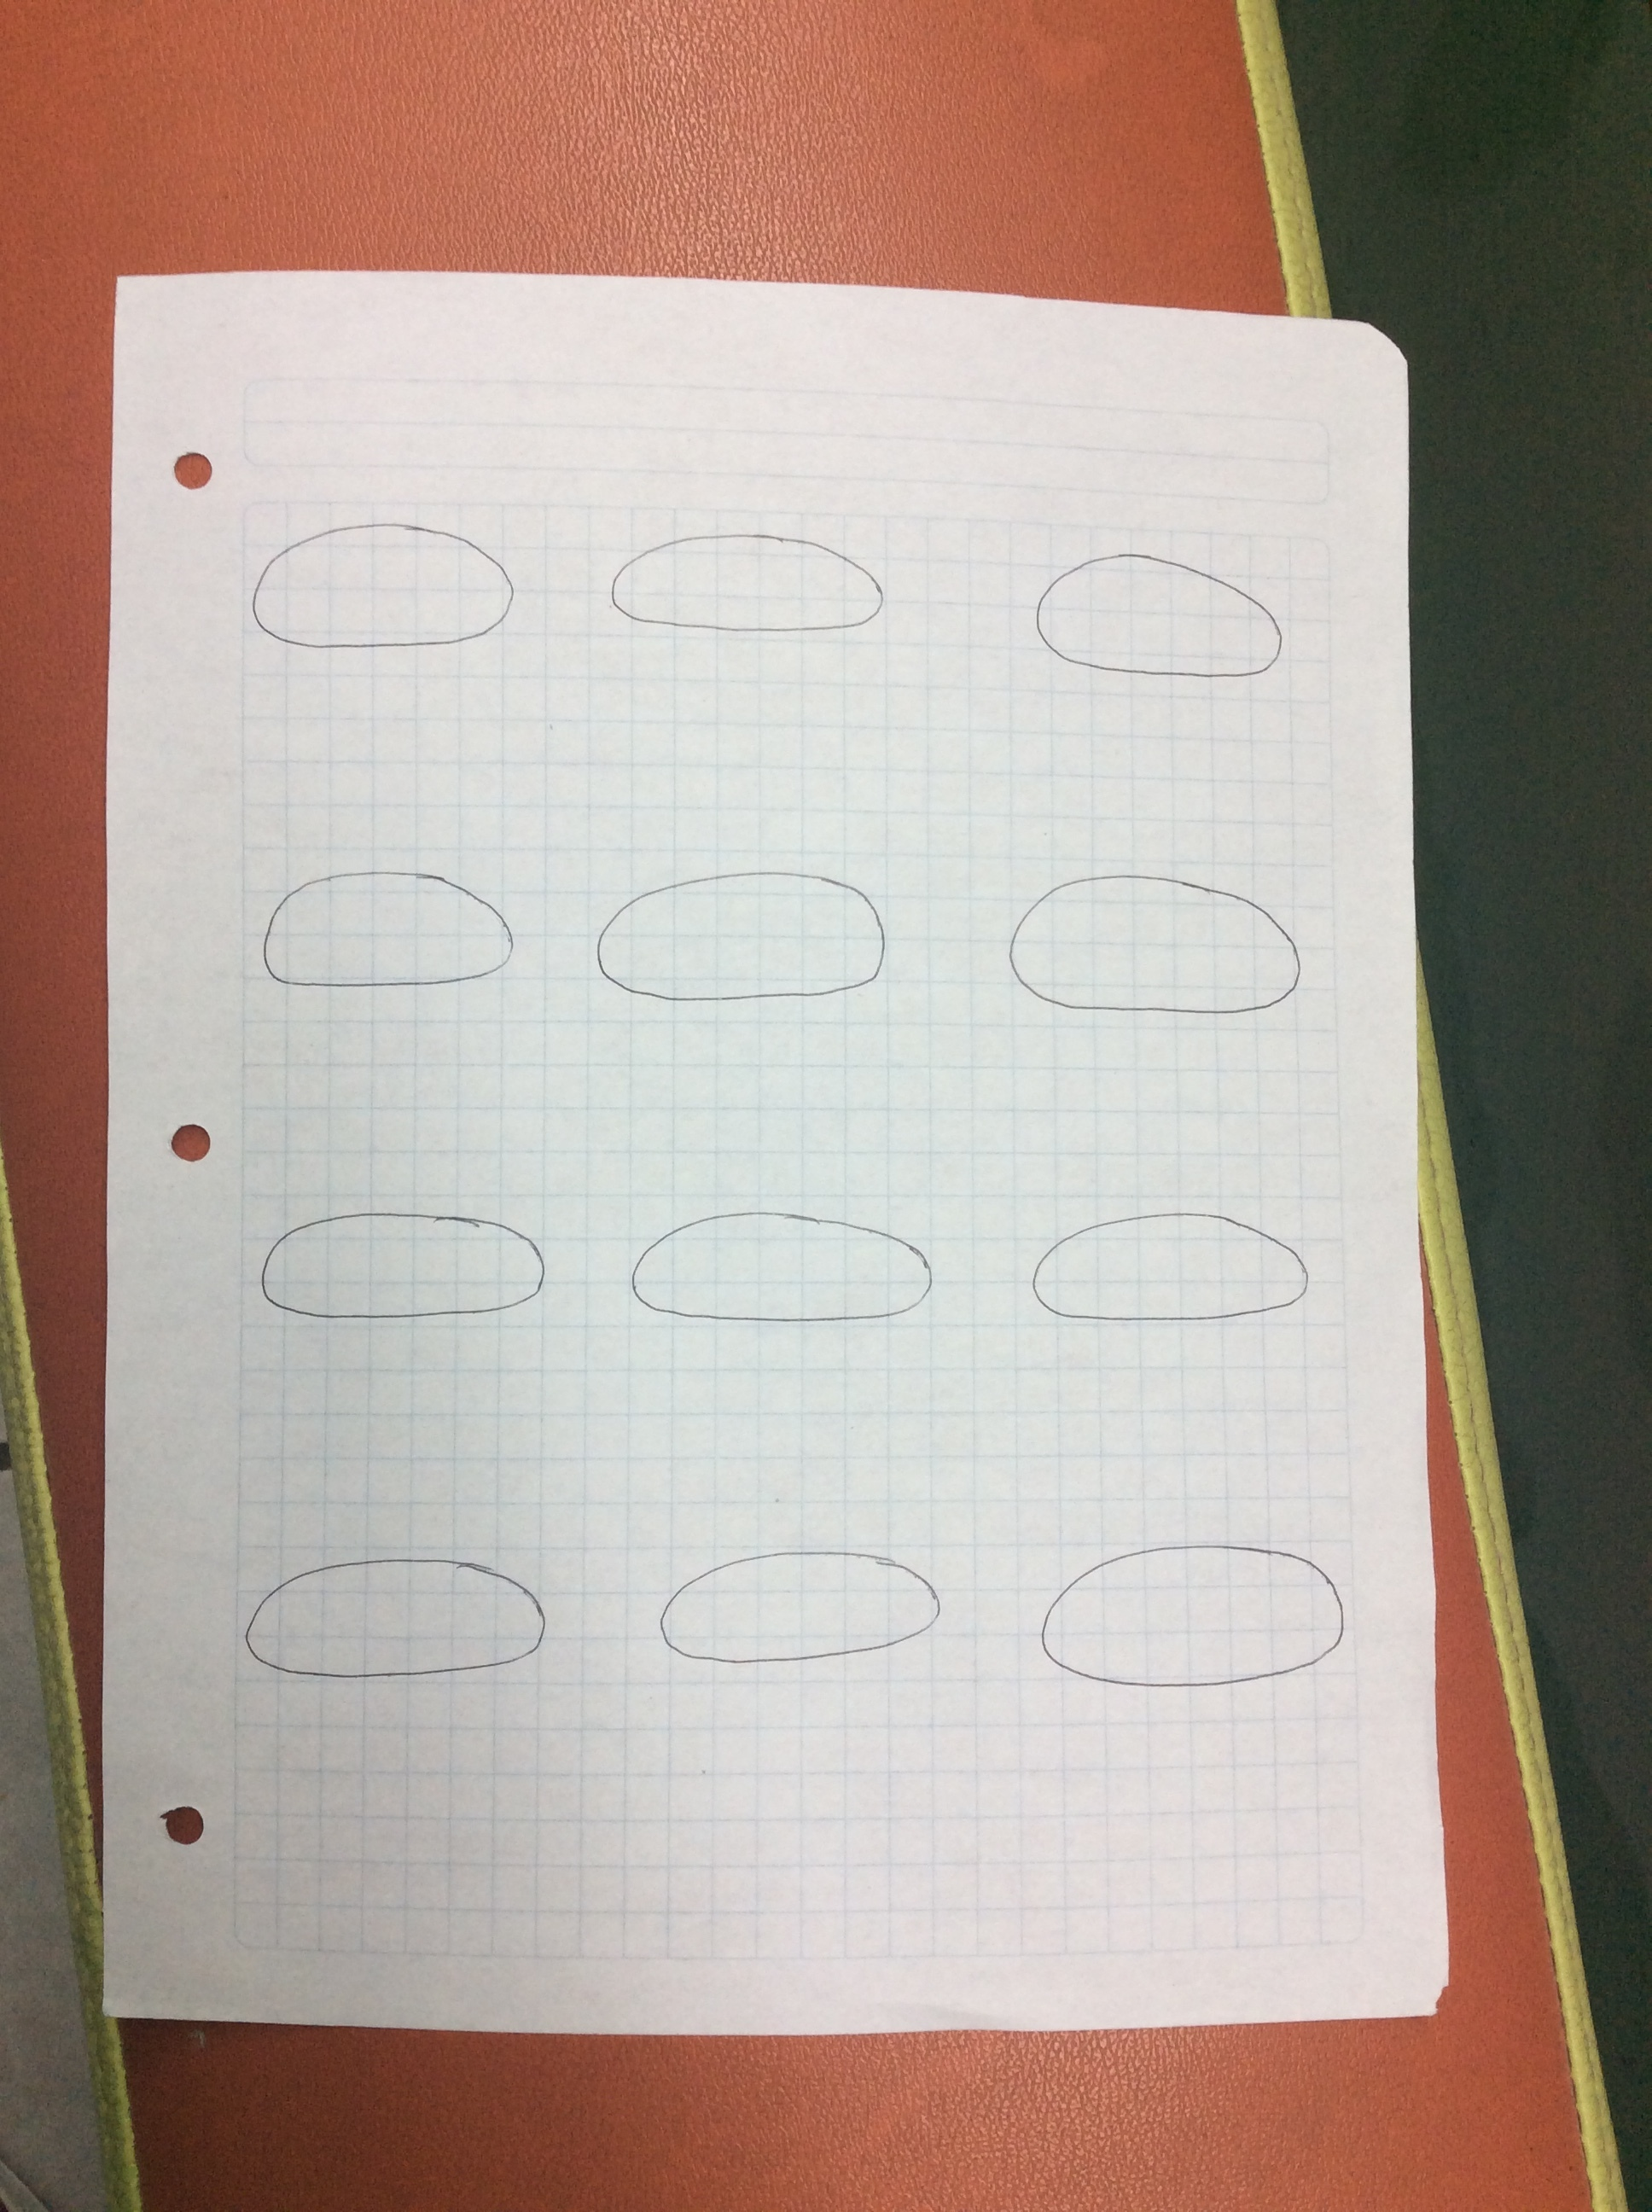start_end: (975, 843, 1329, 1048), (1019, 1523, 1374, 1714), (578, 843, 913, 1027), (1015, 515, 1305, 720), (1001, 1188, 1343, 1358), (637, 1513, 968, 1686), (231, 1535, 567, 1704), (238, 501, 538, 685), (588, 505, 909, 673), (245, 1185, 567, 1348), (245, 840, 531, 1020), (613, 1199, 961, 1345)
